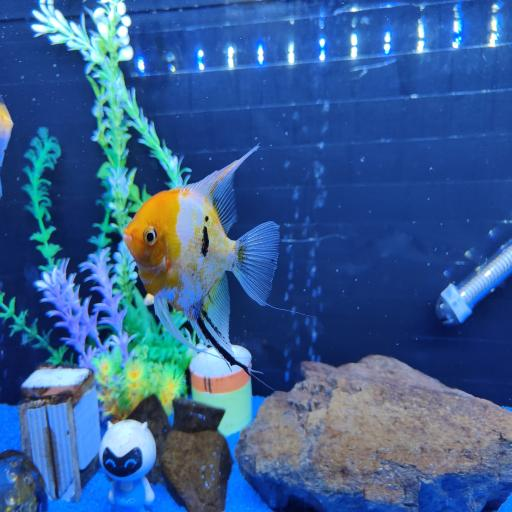Fish: (124, 147, 279, 374), (0, 96, 13, 168)
